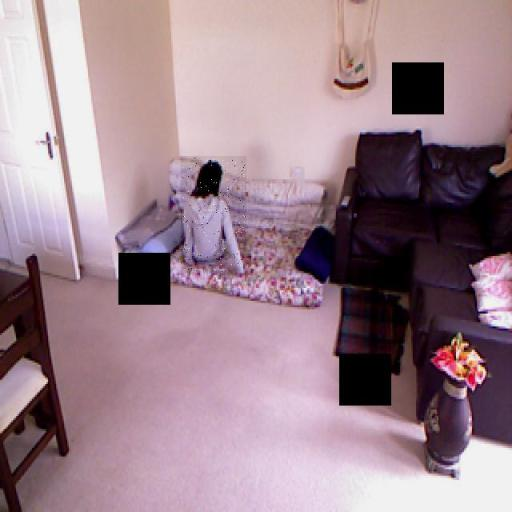Fall: (181, 156, 246, 275)
